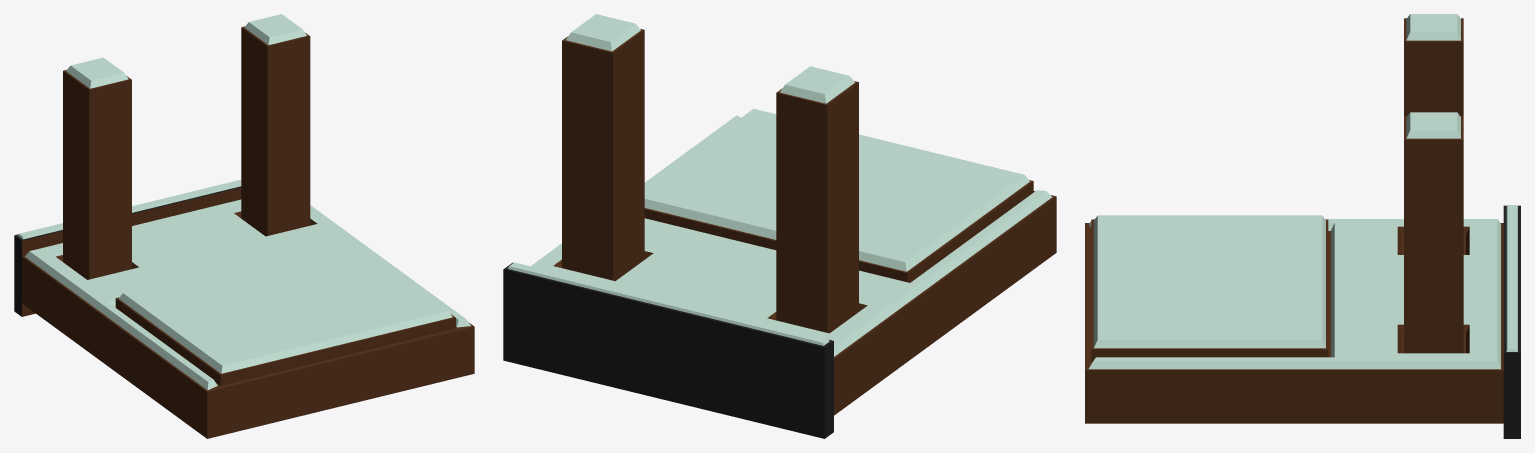
Rendered from winter-catapult-base.glb.
The picture shows the model from 3 angles, left to right: view 1: azimuth 30°, elevation 25°; view 2: azimuth 150°, elevation 25°; view 3: azimuth 270°, elevation 25°; orthographic projection. The views are drawn at different scales.
Visible parts, largest first — view 1: WinterCatapultBase; view 2: WinterCatapultBase; view 3: WinterCatapultBase.
Part boxes in pixels (<box>): WinterCatapultBase: <box>14,14,474,438</box>; WinterCatapultBase: <box>503,14,1056,438</box>; WinterCatapultBase: <box>1085,14,1520,438</box>.
Bounding box in the file's own units: 200 × 185 × 250.
1 material, 1 textured.
